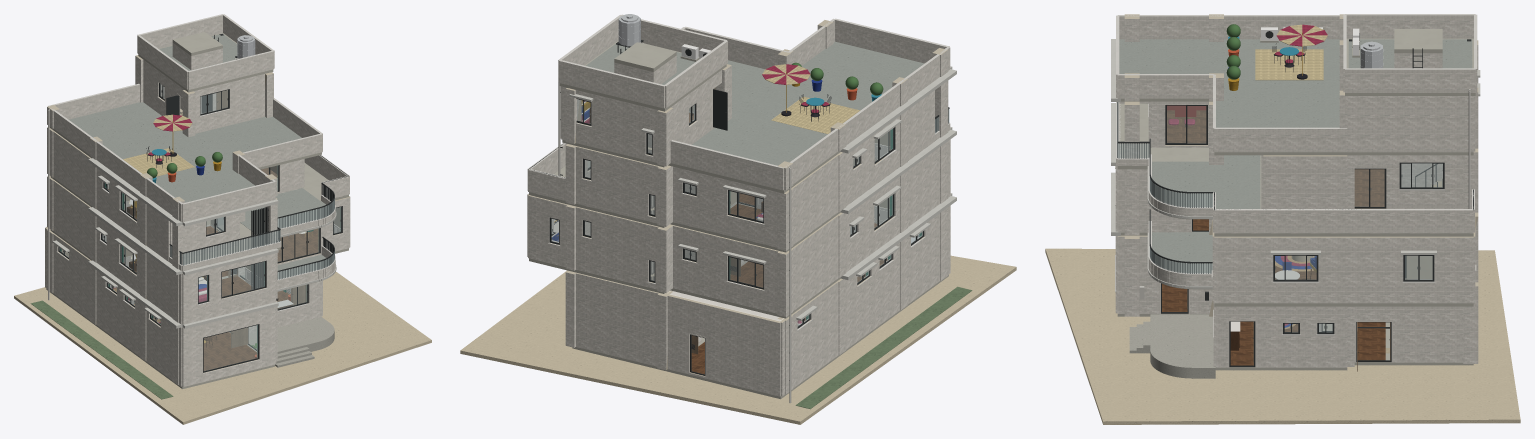
The model's file is eclectic.glb.
The picture shows the model from 3 angles, left to right: view 1: azimuth 30°, elevation 25°; view 2: azimuth 150°, elevation 25°; view 3: azimuth 270°, elevation 25°; orthographic projection. The views are drawn at different scales.
Parts seen in each view (by area): view 1: SITE_site_ground, FLOOR_1_wall_facade, FLOOR_2_wall_facade, FLOOR_4_floor_finish_terrace, FLOOR_4_parapet_facade, FLOOR_3_wall_facade, ROOF_parapet_facade, FLOOR_4_wall_facade, FLOOR_3_railing_metal, FLOOR_1_window_glass, SITE_site_porch, FLOOR_3_parapet_facade (+35 smaller); view 2: FLOOR_1_wall_facade, FLOOR_2_wall_facade, SITE_site_ground, FLOOR_3_wall_facade, FLOOR_4_floor_finish_terrace, FLOOR_4_parapet_facade, ROOF_parapet_facade, FLOOR_4_wall_facade, FLOOR_2_column_facade, FLOOR_3_column_facade, FLOOR_1_column_facade, FLOOR_4_column_facade (+27 smaller); view 3: SITE_site_ground, FLOOR_2_wall_facade, FLOOR_1_wall_facade, FLOOR_4_floor_finish_terrace, FLOOR_3_wall_facade, FLOOR_4_parapet_facade, FLOOR_4_wall_facade, FLOOR_3_parapet_facade, ROOF_parapet_facade, FLOOR_3_floor_finish_terrace, SITE_site_porch, FLOOR_3_slab_slab (+35 smaller).
Boxes of the visible parts, box(x1,y1,x2,y2) form: SITE_site_ground: box(14, 272, 431, 424); FLOOR_1_wall_facade: box(45, 228, 322, 386); FLOOR_2_wall_facade: box(53, 181, 350, 324); FLOOR_4_floor_finish_terrace: box(69, 102, 301, 202); FLOOR_4_parapet_facade: box(53, 84, 322, 222); FLOOR_3_wall_facade: box(53, 109, 304, 261); ROOF_parapet_facade: box(137, 15, 274, 89); FLOOR_4_wall_facade: box(143, 60, 272, 133); FLOOR_3_railing_metal: box(169, 155, 348, 265); FLOOR_1_window_glass: box(59, 248, 306, 370); SITE_site_porch: box(249, 317, 334, 367); FLOOR_3_parapet_facade: box(169, 155, 349, 271); FLOOR_1_wall_facade: box(576, 205, 950, 396); FLOOR_2_wall_facade: box(527, 139, 950, 313); SITE_site_ground: box(460, 255, 1016, 424); FLOOR_3_wall_facade: box(576, 90, 934, 247); FLOOR_4_floor_finish_terrace: box(692, 41, 924, 165); FLOOR_4_parapet_facade: box(561, 20, 950, 190); ROOF_parapet_facade: box(558, 18, 727, 108); FLOOR_4_wall_facade: box(560, 70, 721, 162); FLOOR_2_column_facade: box(565, 141, 948, 316); FLOOR_3_column_facade: box(565, 81, 948, 250); FLOOR_1_column_facade: box(565, 207, 948, 394); FLOOR_4_column_facade: box(565, 22, 948, 190); SITE_site_ground: box(1045, 248, 1520, 424); FLOOR_2_wall_facade: box(1115, 166, 1475, 303); FLOOR_1_wall_facade: box(1115, 236, 1463, 367); FLOOR_4_floor_finish_terrace: box(1119, 39, 1339, 127); FLOOR_3_wall_facade: box(1148, 101, 1463, 208); FLOOR_4_parapet_facade: box(1116, 16, 1347, 152); FLOOR_4_wall_facade: box(1345, 96, 1475, 152); FLOOR_3_parapet_facade: box(1116, 101, 1474, 233); ROOF_parapet_facade: box(1343, 15, 1477, 92); FLOOR_3_floor_finish_terrace: box(1152, 155, 1260, 208); SITE_site_porch: box(1129, 314, 1215, 378); FLOOR_3_slab_slab: box(1117, 103, 1473, 236).
Size of the model in its own units: 19.1 by 16.92 by 22.2.
55 materials, 27 textured.
